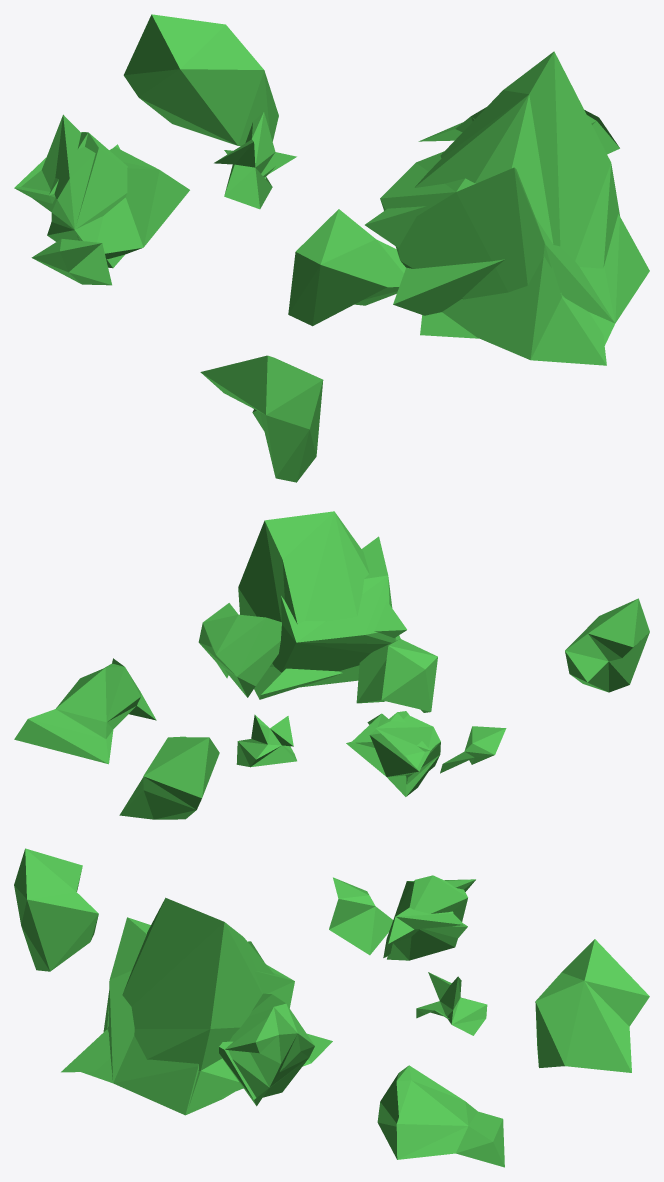
Rendered from Terrain_SmallCluster2.fbx.
3 views of the same model, one above another, from view 1: azimuth 30°, elevation 25°; view 2: azimuth 150°, elevation 25°; view 3: azimuth 270°, elevation 25° (orthographic). The views are drawn at different scales.
Parts seen in each view (by area): view 1: SmallCluster2; view 2: SmallCluster2; view 3: SmallCluster2.
Part boxes in pixels (x1=…): SmallCluster2: x1=14, y1=14, x2=649, y2=482; SmallCluster2: x1=14, y1=511, x2=649, y2=819; SmallCluster2: x1=14, y1=848, x2=649, y2=1167.
Bounding box in the file's own units: 11.31 × 4.28 × 12.91.
